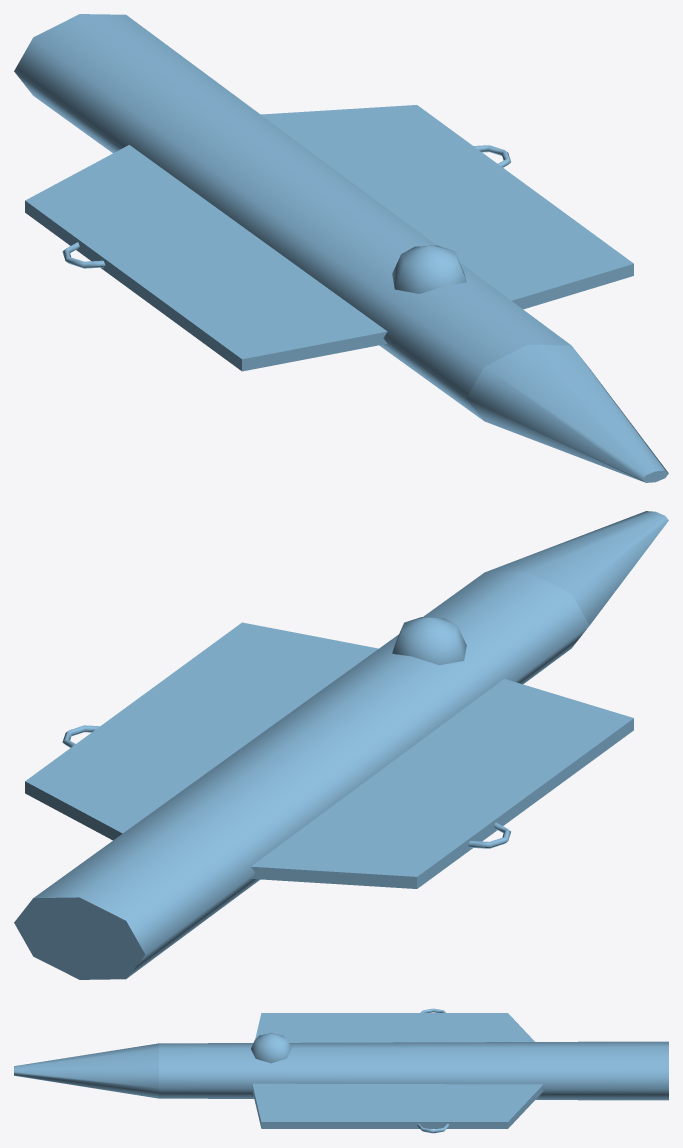
The model's file is fighter-hammerhead-401.glb.
The picture shows the model from 3 angles, top to bottom: view 1: azimuth 30°, elevation 25°; view 2: azimuth 150°, elevation 25°; view 3: azimuth 270°, elevation 25°; orthographic projection. The views are drawn at different scales.
Size of the model in its own units: 0.8803 by 0.2016 by 1.98.
